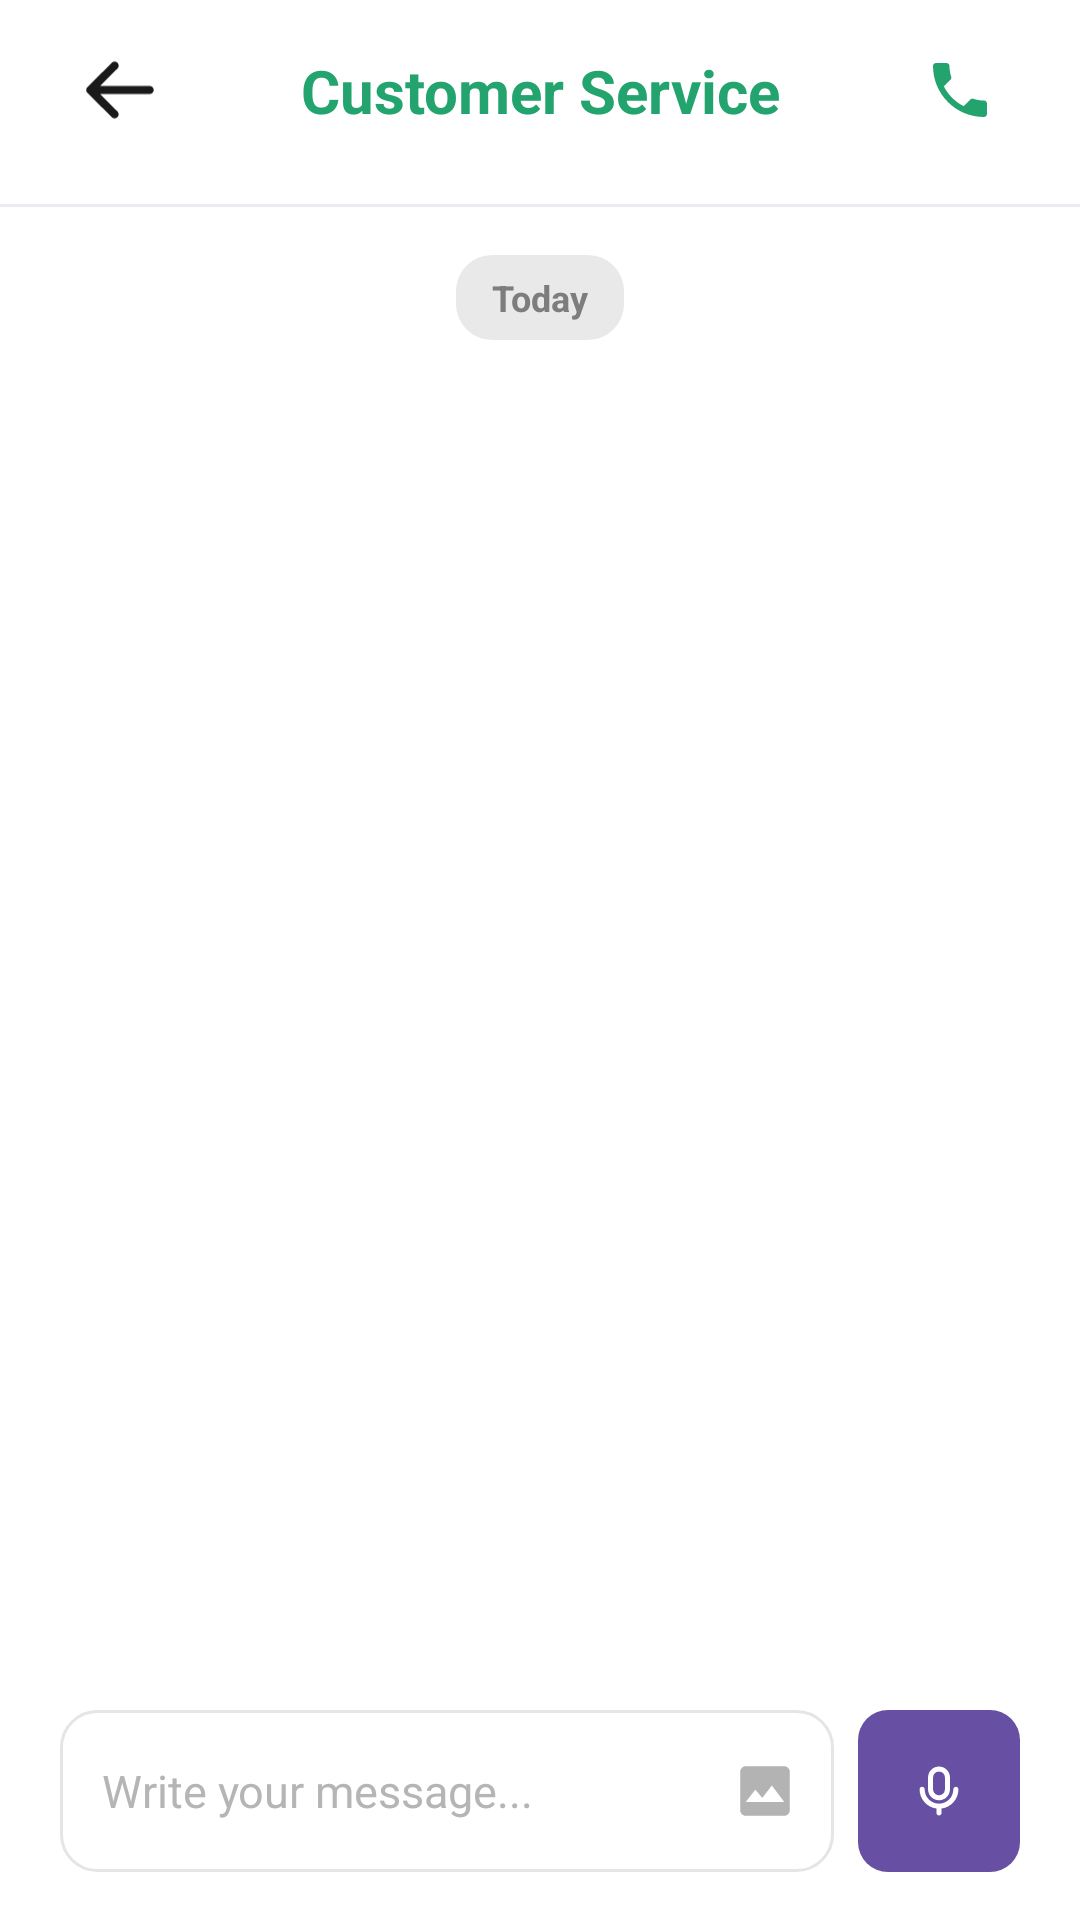

Named icons in this screenshot (1080px×1920px) and their centers, (x=x, y=y):
Back: (x=120, y=90)
mic: (x=939, y=1791)
phone call: (x=960, y=90)
